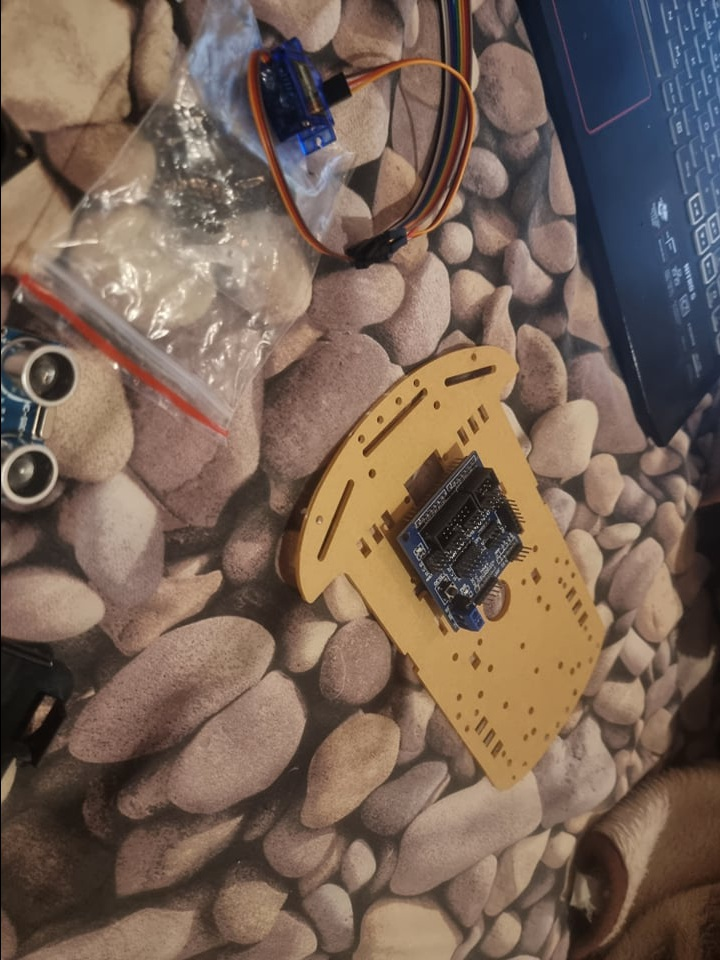5V EXPANSION: (392, 451, 530, 631)
SENSOR: (0, 321, 76, 510)
